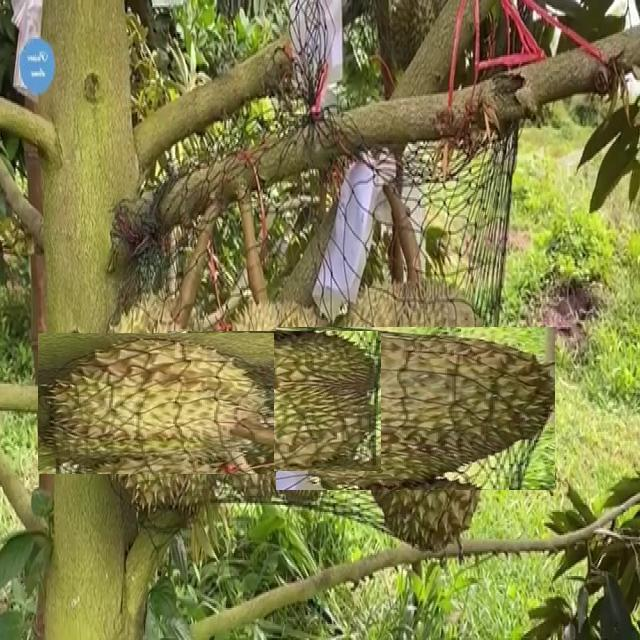durian: (305, 298, 526, 520), (61, 309, 251, 497), (186, 312, 364, 490)
